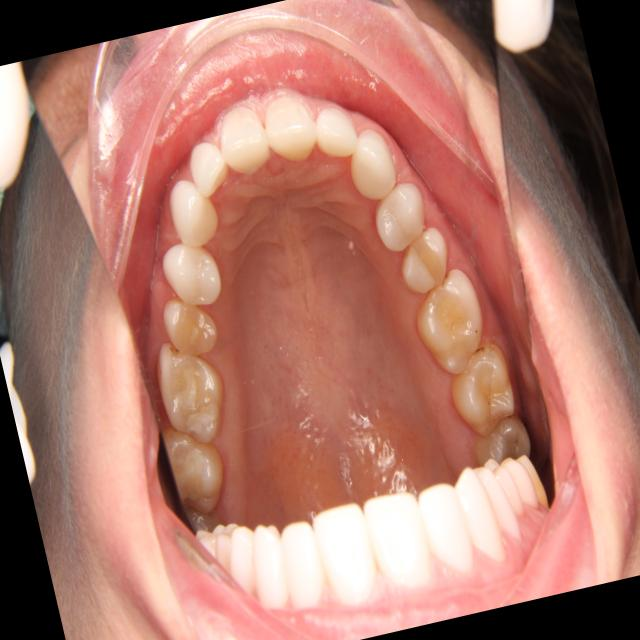tooth: (174, 297, 266, 413), (148, 250, 234, 354), (410, 162, 493, 263), (417, 233, 496, 335), (234, 406, 311, 500), (261, 450, 332, 546), (380, 461, 450, 557), (426, 401, 498, 488), (339, 483, 408, 571), (422, 351, 496, 433), (134, 201, 208, 282), (212, 369, 282, 452), (424, 302, 494, 381), (301, 485, 362, 564), (415, 133, 478, 197), (421, 451, 474, 519)
